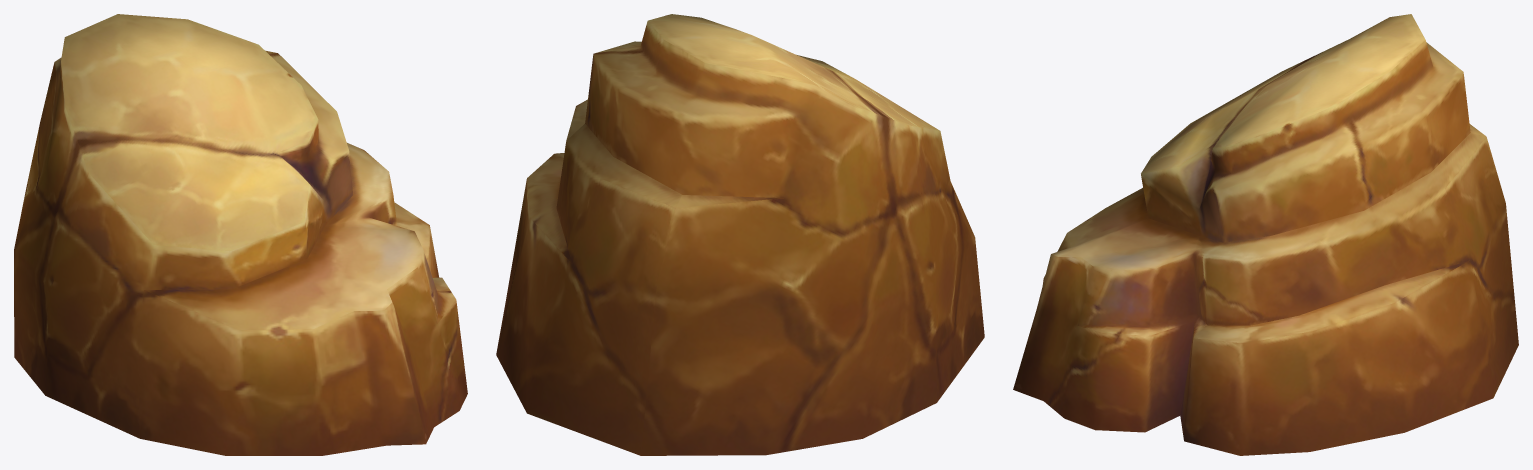
File: Stage_ShaMo_ShiTou04.FBX
3 renders of one model, left to right at view 1: azimuth 30°, elevation 25°; view 2: azimuth 150°, elevation 25°; view 3: azimuth 270°, elevation 25°, orthographic. The views are drawn at different scales.
Visible parts, largest first — view 1: Stage_ShaMo_ShiTou04; view 2: Stage_ShaMo_ShiTou04; view 3: Stage_ShaMo_ShiTou04.
Part boxes in pixels (x1,y1,x2,y2): Stage_ShaMo_ShiTou04: (14, 14, 467, 455); Stage_ShaMo_ShiTou04: (496, 14, 984, 455); Stage_ShaMo_ShiTou04: (1013, 14, 1518, 455).
Bounding box in the file's own units: 830 × 646 × 983.
